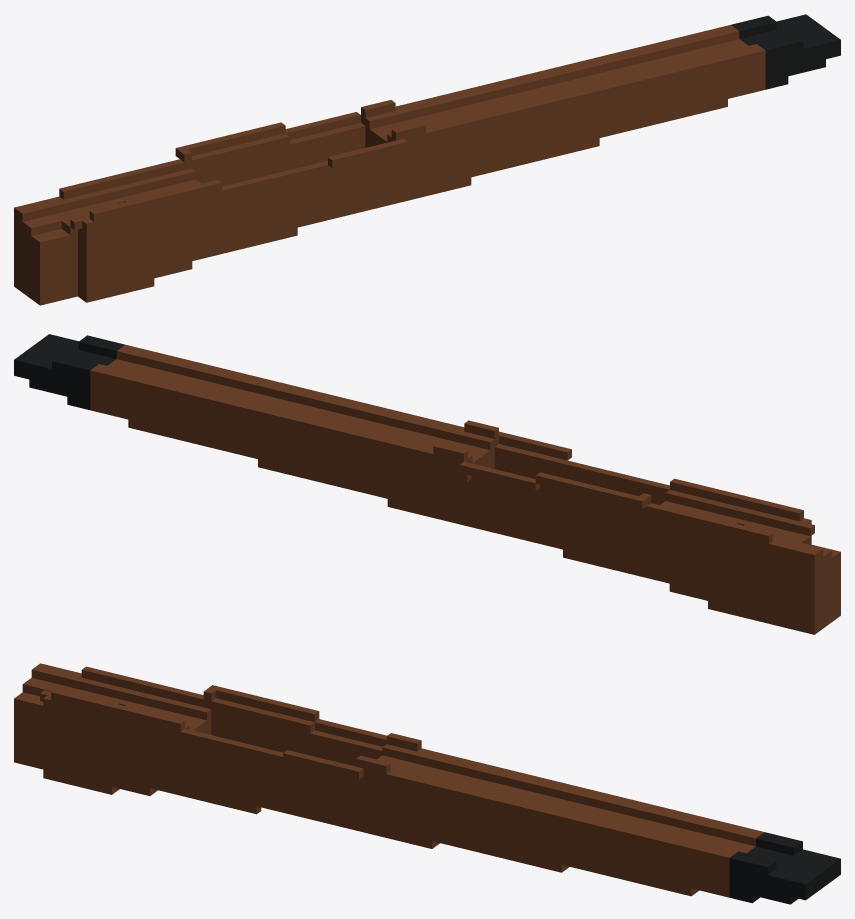
File: handguard_sporter.glb
3 views of the same model, one above another, from view 1: azimuth 30°, elevation 25°; view 2: azimuth 150°, elevation 25°; view 3: azimuth 330°, elevation 25° (orthographic).
Visible parts, largest first — view 1: handguard_sporter:handguard; view 2: handguard_sporter:handguard; view 3: handguard_sporter:handguard.
Part boxes in pixels (<box>): handguard_sporter:handguard: <box>14,14,840,305</box>; handguard_sporter:handguard: <box>14,334,840,634</box>; handguard_sporter:handguard: <box>14,663,840,904</box>.
Bounding box in the file's own units: 0.42 × 0.048 × 0.04.
